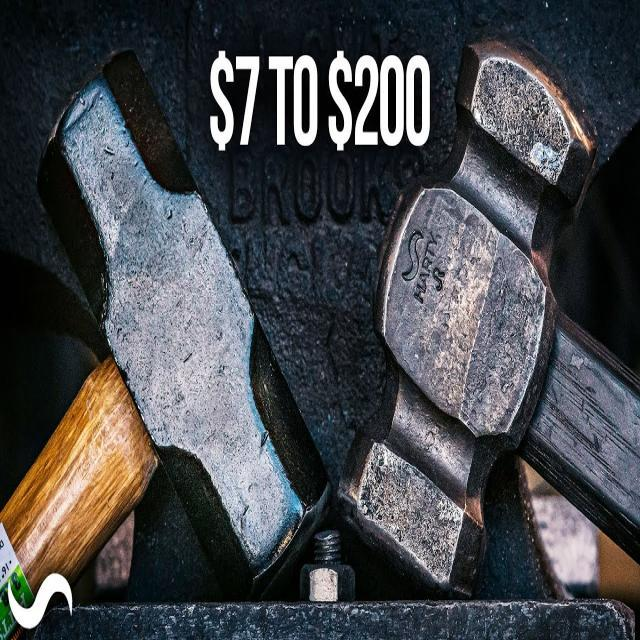hammer: (0, 46, 330, 638), (347, 29, 640, 598)
